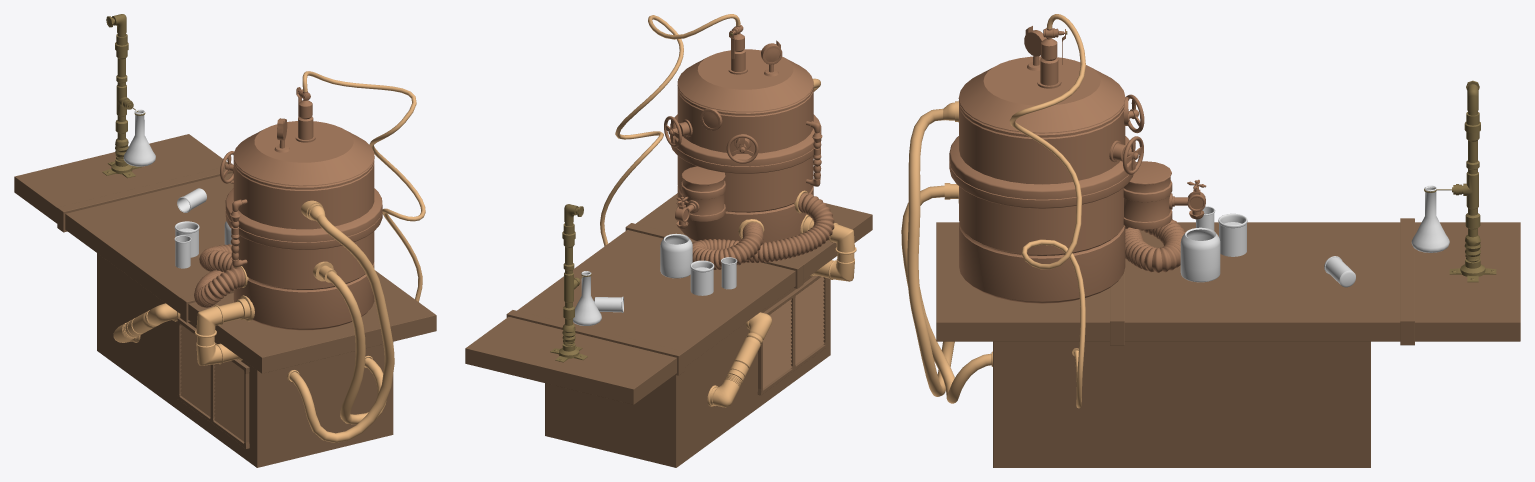
Rendered from Chemical_Table.fbx.
3 views of the same model, side by side, from view 1: azimuth 30°, elevation 25°; view 2: azimuth 150°, elevation 25°; view 3: azimuth 270°, elevation 25° (orthographic). The views are drawn at different scales.
Parts seen in each view (by area): view 1: Cube.003, Cylinder.003, Cube, BezierCurve.002, Plane, BezierCurve.003, Cylinder.042, Elbow Joint.005, Cube.004, Cube.001, Cylinder.002, Elbow Joint.004 (+7 smaller); view 2: Cube.003, Cylinder.003, Cube, Cylinder.042, Plane, Cube.004, BezierCurve.003, Cylinder.008, Elbow Joint.004, Cube.001, Elbow Joint.005, Cylinder.019 (+9 smaller); view 3: Cube.003, Cube, Cylinder.003, BezierCurve.002, BezierCurve.003, Cylinder.008, Cube.004, Cylinder.042, Cylinder.019, Cylinder.002, Cylinder.006, Cylinder.010 (+4 smaller).
Boxes of the visible parts, <box> form: Cube.003: <box>14,134,436,373</box>; Cylinder.003: <box>225,121,382,330</box>; Cube: <box>97,253,393,467</box>; BezierCurve.002: <box>289,214,394,442</box>; Plane: <box>180,324,244,441</box>; BezierCurve.003: <box>302,71,425,301</box>; Cylinder.042: <box>194,244,245,307</box>; Elbow Joint.005: <box>194,298,250,365</box>; Cube.004: <box>57,164,233,322</box>; Cube.001: <box>177,317,249,448</box>; Cylinder.002: <box>111,14,132,174</box>; Elbow Joint.004: <box>113,303,176,342</box>; Cube.003: <box>465,193,872,404</box>; Cylinder.003: <box>670,49,821,242</box>; Cube: <box>545,276,830,467</box>; Cylinder.042: <box>692,192,834,269</box>; Plane: <box>763,277,824,388</box>; Cube.004: <box>506,223,803,375</box>; BezierCurve.003: <box>600,14,740,246</box>; Cylinder.008: <box>681,166,725,221</box>; Elbow Joint.004: <box>712,312,771,407</box>; Cube.001: <box>757,275,827,395</box>; Elbow Joint.005: <box>803,216,856,281</box>; Cylinder.019: <box>660,233,692,278</box>; Cube.003: <box>936,222,1520,341</box>; Cube: <box>993,341,1370,467</box>; Cylinder.003: <box>949,56,1133,303</box>; BezierCurve.002: <box>901,108,991,403</box>; BezierCurve.003: <box>1009,14,1085,408</box>; Cylinder.008: <box>1123,161,1172,229</box>; Cube.004: <box>1110,218,1414,345</box>; Cylinder.042: <box>1125,219,1185,272</box>; Cylinder.019: <box>1180,227,1220,282</box>; Cylinder.002: <box>1460,84,1485,276</box>; Cylinder.006: <box>1411,185,1449,252</box>; Cylinder.010: <box>1109,94,1144,174</box>.
Bounding box in the file's own units: 148 × 205 × 275.
